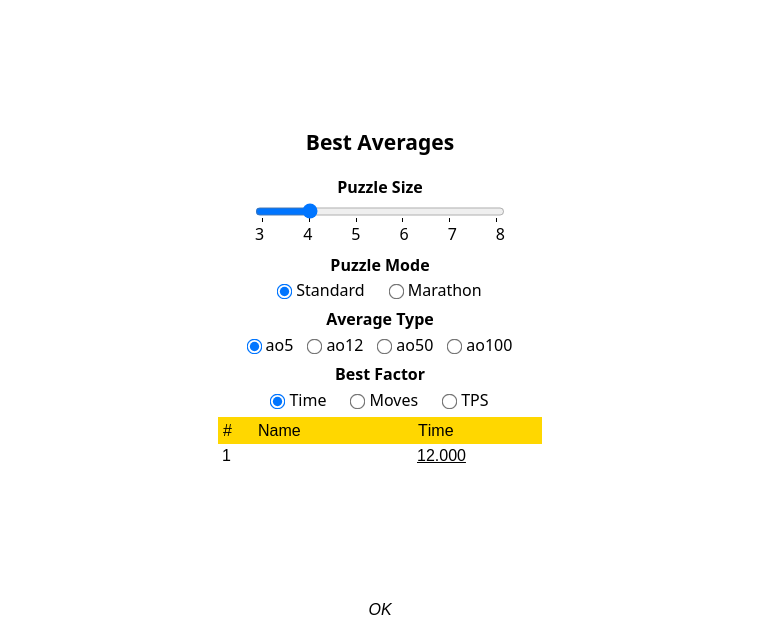
Test: LeaderBoard › opening/closing the games table › opens the averages games table with the real record id and avg type
Expected: the element with class "leaderboard" is shown, [218, 128, 542, 626]
Click the cell with class "link-item": (441, 456) [413, 444, 542, 468]
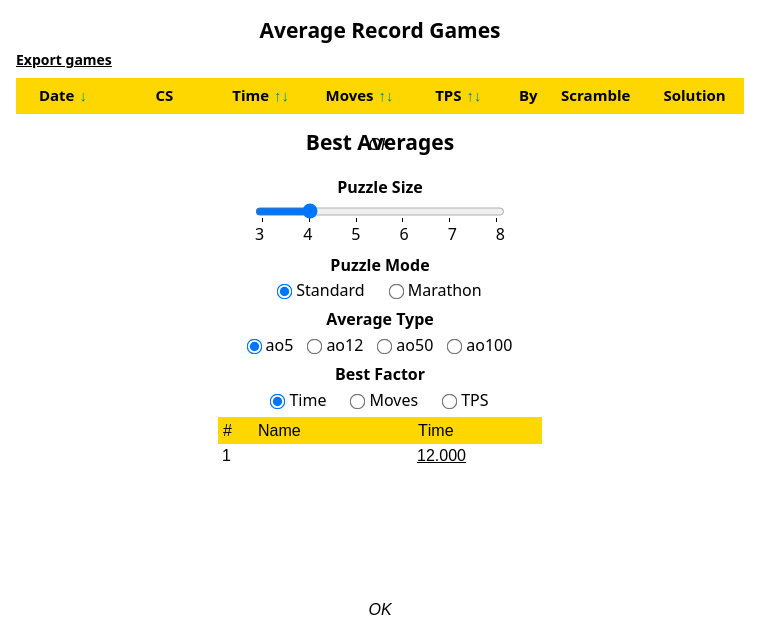
Expected: the element with class "games-table" is shown, [16, 16, 744, 161]
